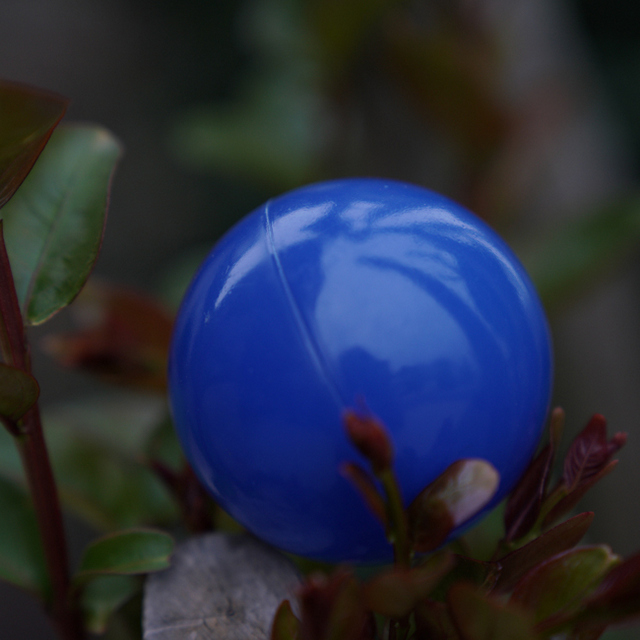Ball: (170, 182, 551, 563)
